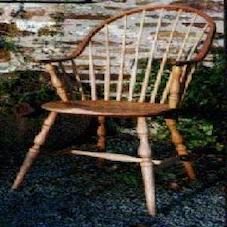chair: (1, 1, 212, 216)
